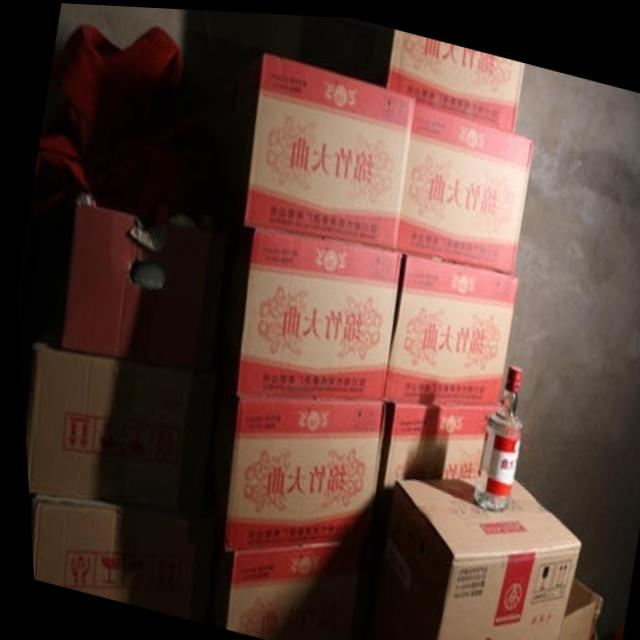box: (357, 471, 573, 640), (241, 48, 414, 248), (232, 226, 400, 397), (215, 394, 381, 548), (394, 94, 533, 269), (377, 248, 515, 397), (362, 398, 494, 535), (385, 25, 523, 128), (219, 536, 351, 640), (549, 571, 594, 640)
